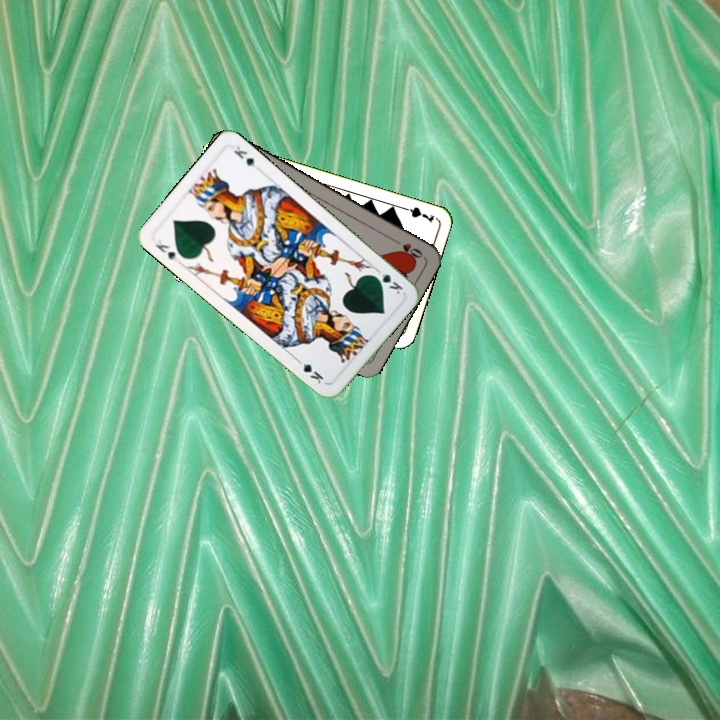G7: (397, 203, 437, 225)
GK: (369, 265, 406, 297), (151, 235, 180, 264)
HO: (389, 235, 425, 262)
